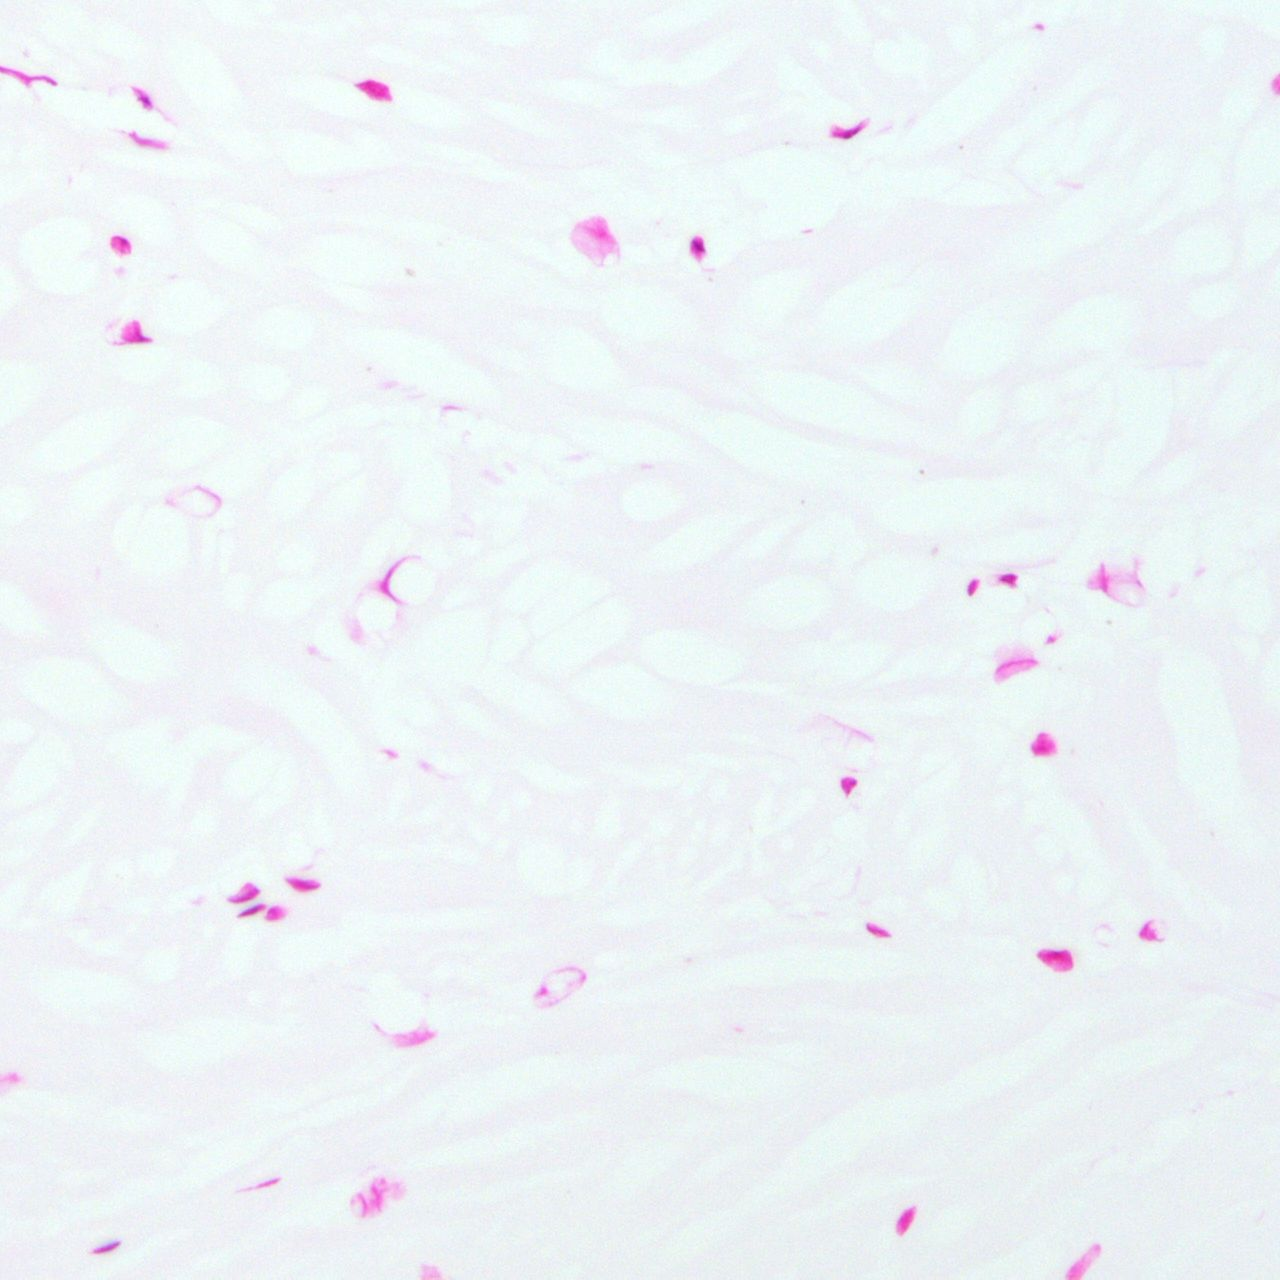nucleus-FG: (828, 116, 874, 143), (223, 878, 260, 908), (862, 917, 894, 944), (1039, 948, 1074, 971), (130, 82, 155, 111), (234, 903, 265, 921), (90, 1240, 121, 1257), (287, 877, 319, 891), (964, 576, 981, 597), (690, 234, 704, 259), (265, 906, 285, 921), (840, 776, 856, 796), (999, 573, 1017, 584)
